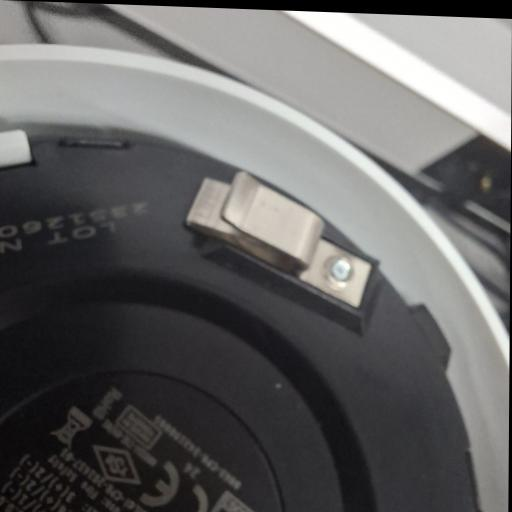yayli: (183, 168, 376, 311)
